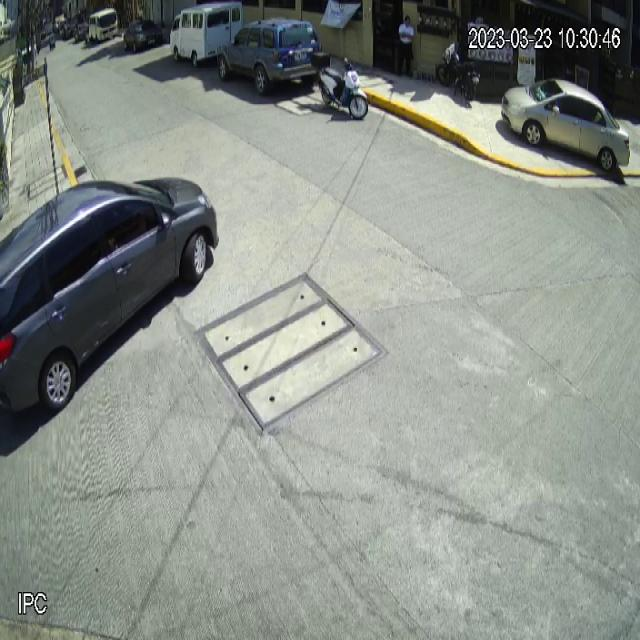Car: (0, 173, 217, 411), (500, 76, 630, 175), (216, 16, 322, 97)
Motorcycle: (311, 49, 369, 121)
Van: (169, 1, 243, 68)
